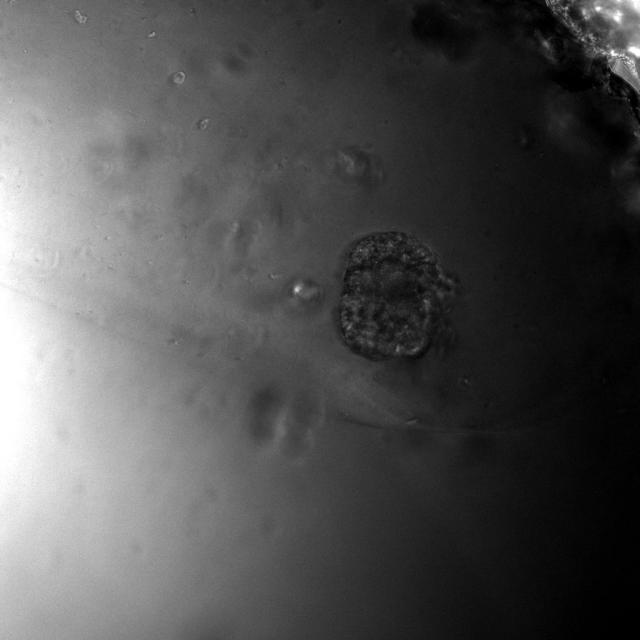organoid: (338, 232, 452, 360), (171, 71, 186, 85), (74, 9, 86, 24), (198, 116, 210, 129)
